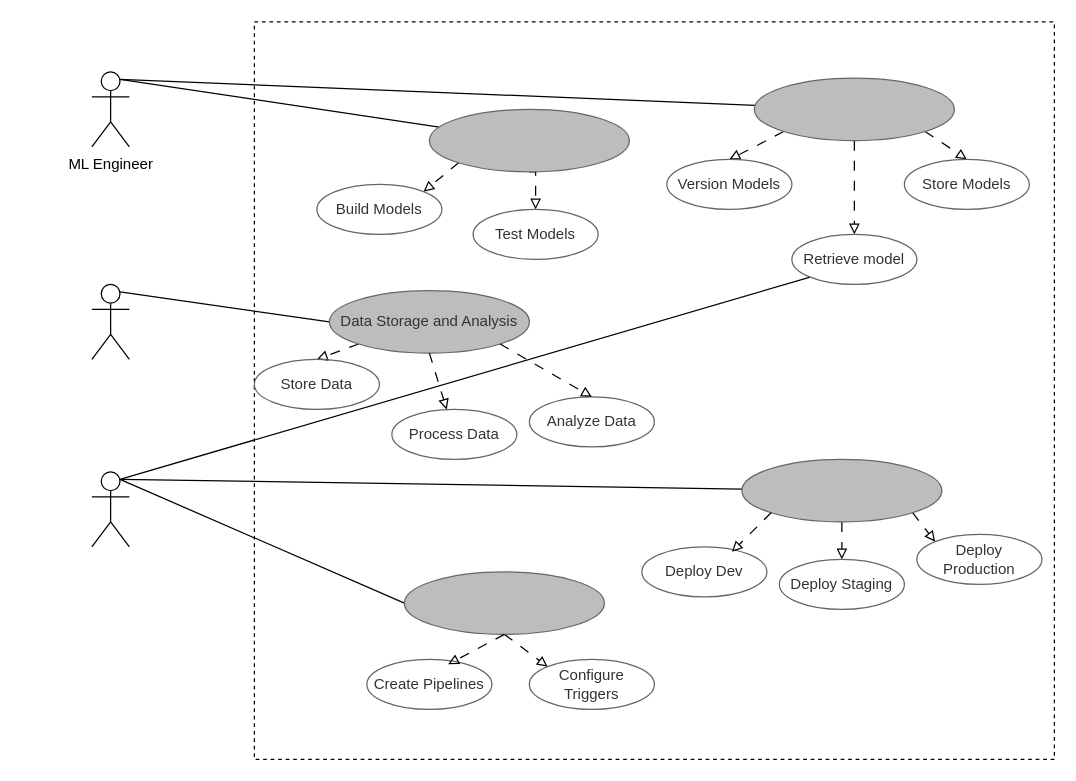
The diagram is 1076 pixels wide and 781 high, and some of its shapes have lost their labels. Here are the shapes that lost their labels. From the top down, the centre of each, then its label:
At pixel 853 109: "Model Versioning and Storage".
At pixel 528 140: "Collaborative Model Development".
At pixel 110 321: "Data Scientist".
At pixel 110 509: "DevOps / MLOps Engineer".
At pixel 841 490: "Model and Tool Deployment".
At pixel 503 602: "Workflow Automation".
